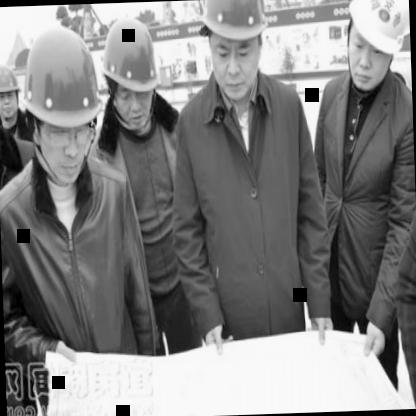helmet: (23, 38, 98, 179), (97, 15, 163, 146), (204, 0, 271, 102), (342, 0, 408, 96), (0, 52, 20, 131)
